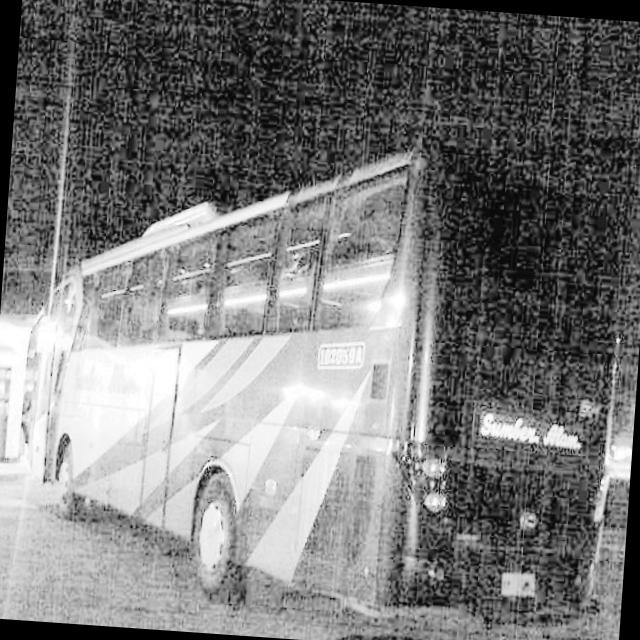Bus: (19, 197, 640, 640)
